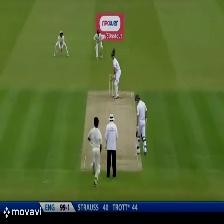batsman: (108, 48, 125, 99)
